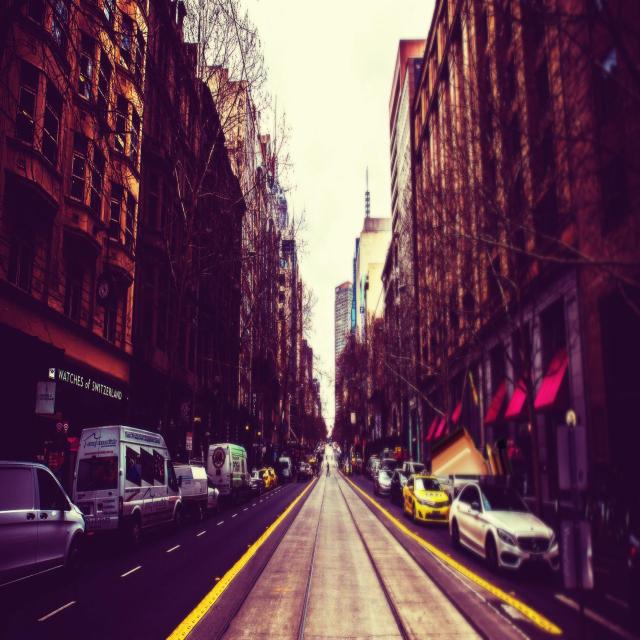airplane: (430, 431, 502, 477)
